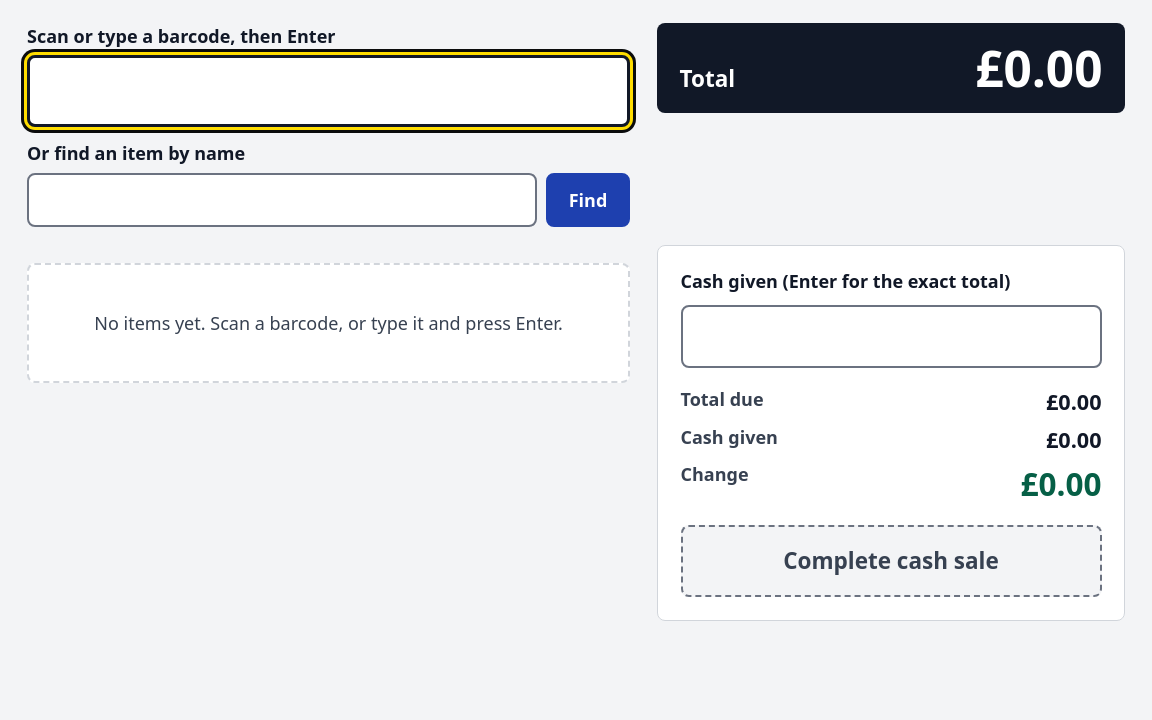
Test case: problems, by whose they are (UX-59, UX-11, UX-57) › UX-59, UX-57, SM-04: a server failure is a system problem that says the till is still working; the cart and the cash stay, and the retry is the same sale
Type "012345678905" into the field labelled "Scan or type a barcode, then Enter" at (328, 91), box [27,55,630,127]
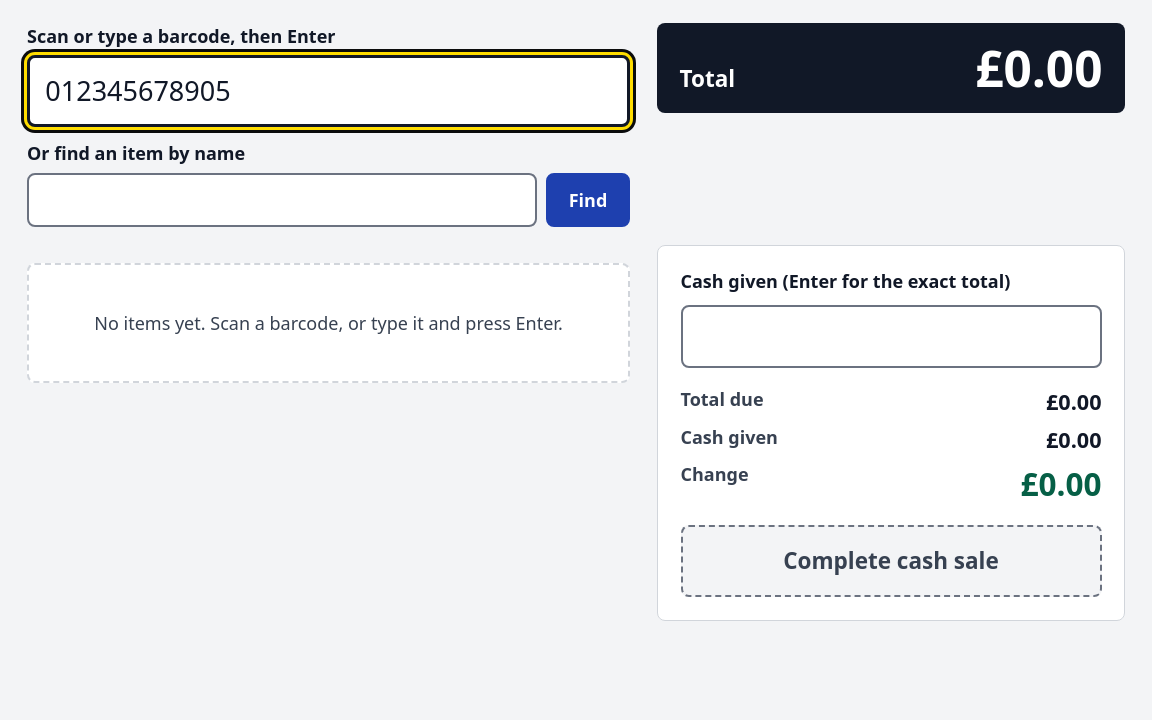
Submit the form labelled "Scan or type a barcode, then Enter", box [27,22,630,127]
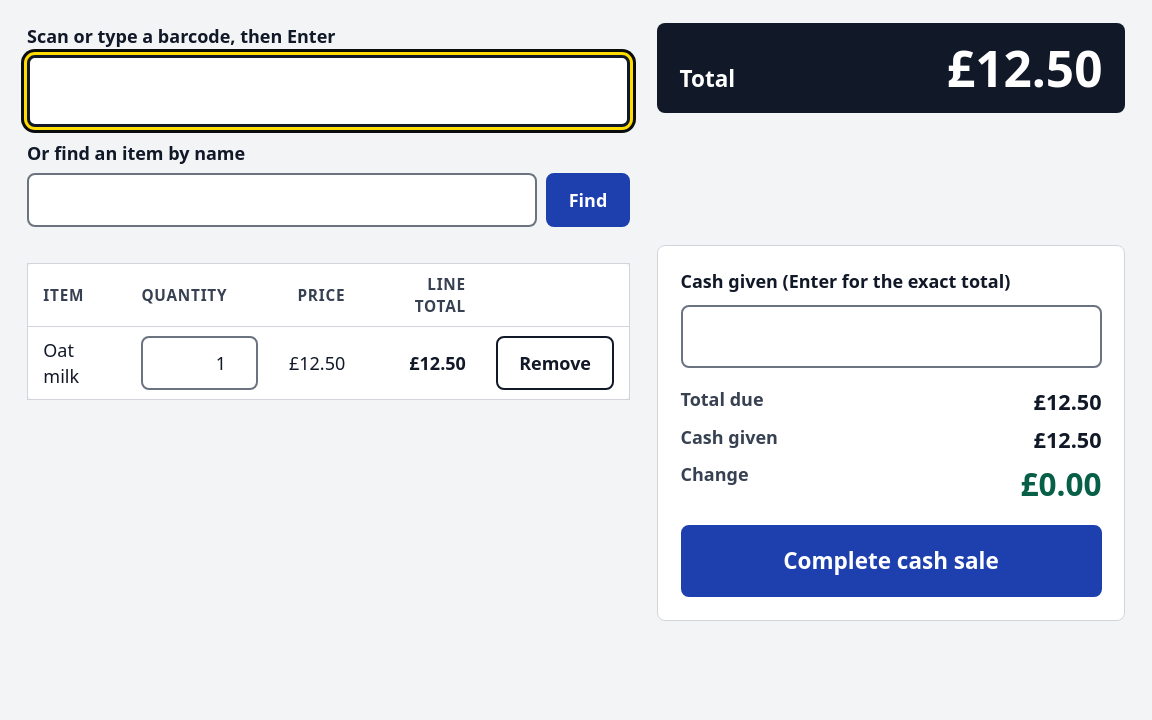
Result: the row with test id "cart-line" is shown at [28,327,630,400]
Type "20" into the field labelled "Cash given (Enter for the exact total)" at (891, 337), box [680,305,1102,368]
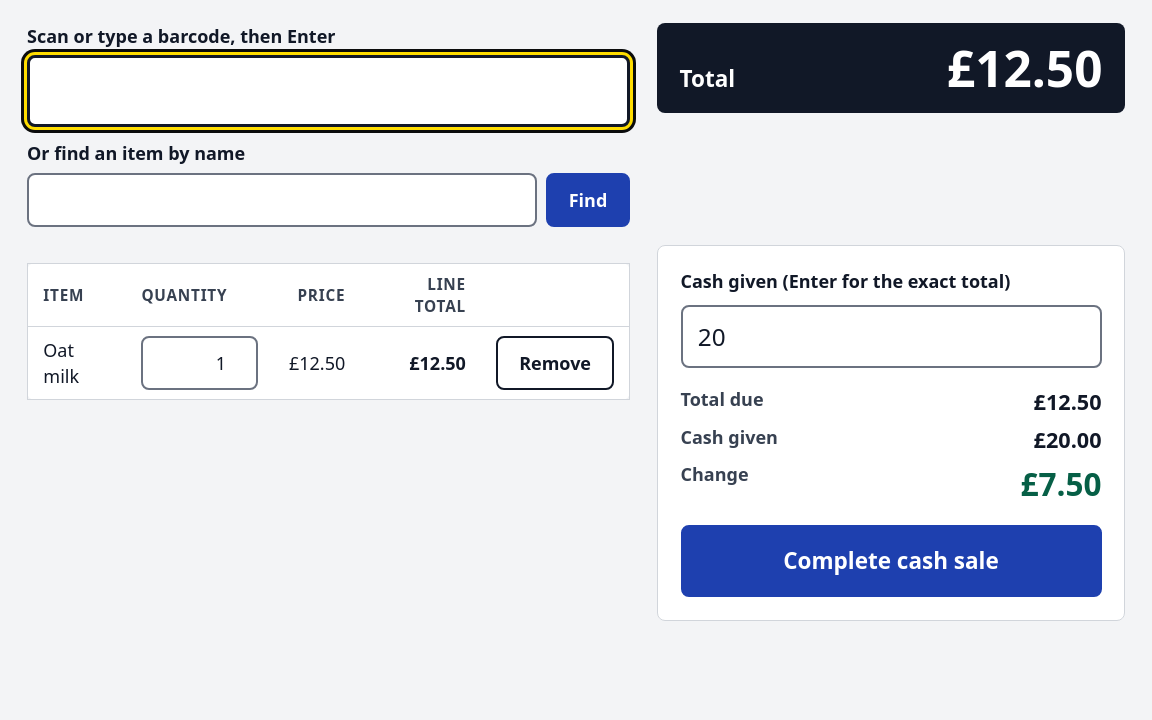
Submit the form named "Payment", box [657,245,1125,621]
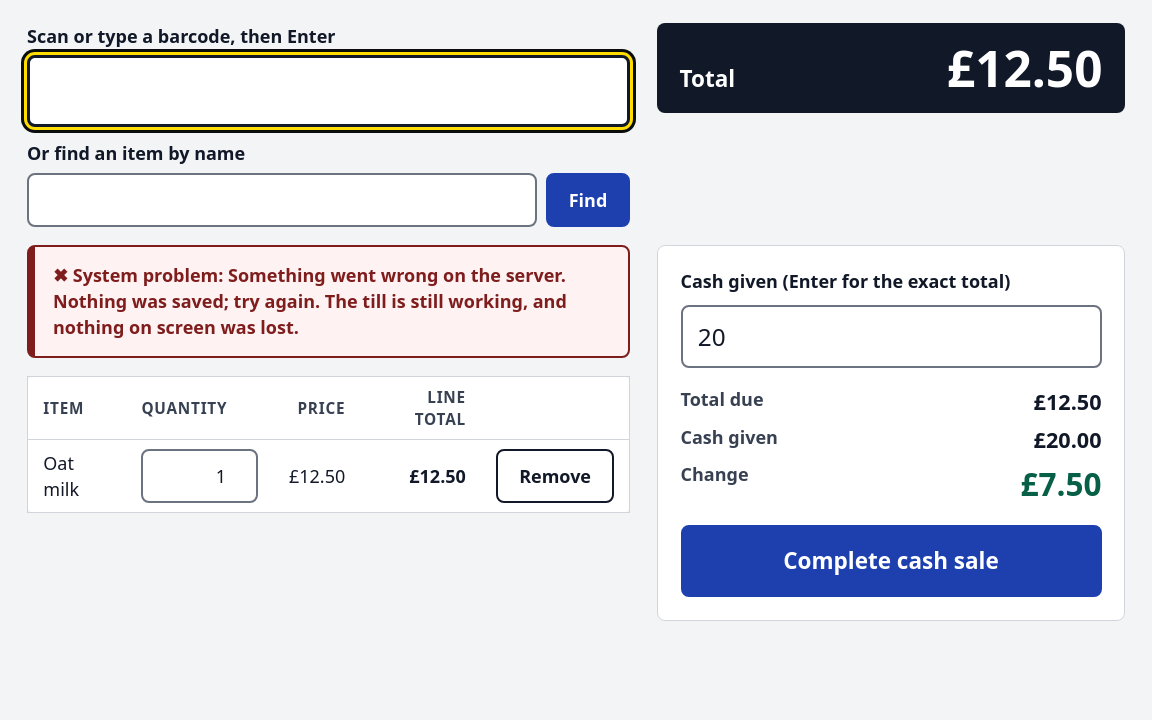
Result: the number of rows with test id "cart-line" is 1 at [28,440,630,512]
Submit the form named "Payment", box [657,245,1125,621]
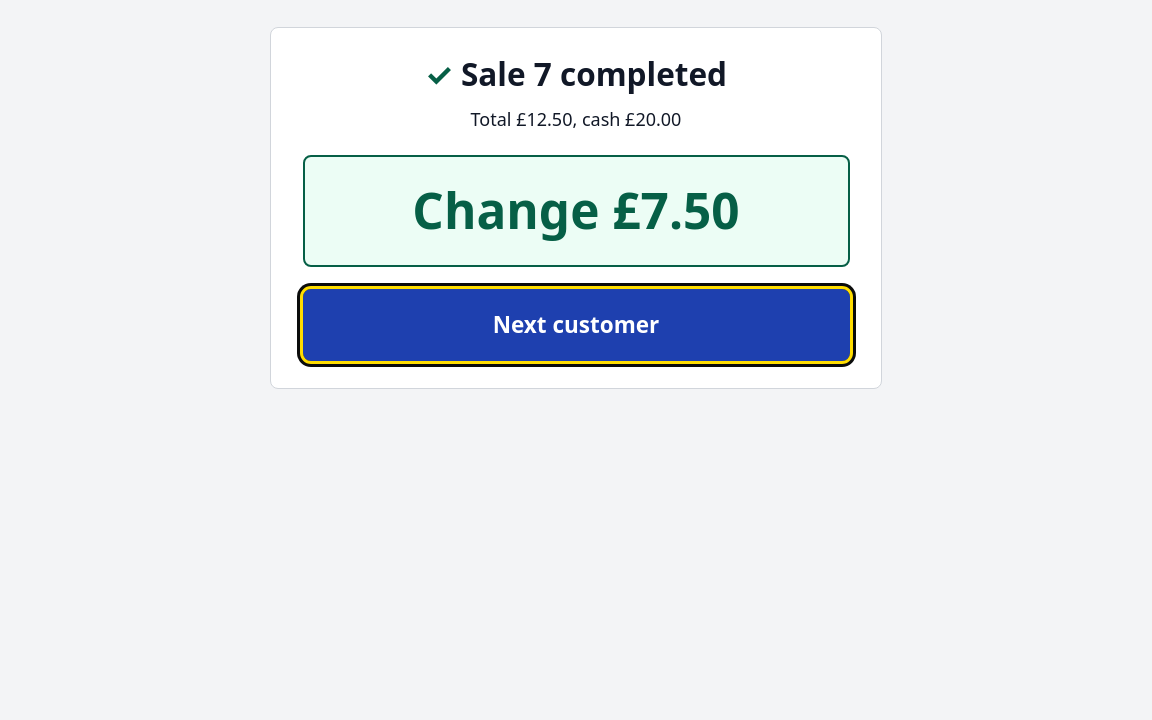
Result: the heading "Sale 7 completed" is shown at [461,52,727,95]
